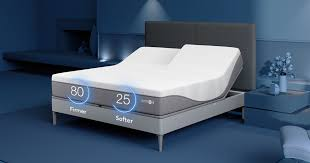bed-matress: (50, 44, 246, 116)
